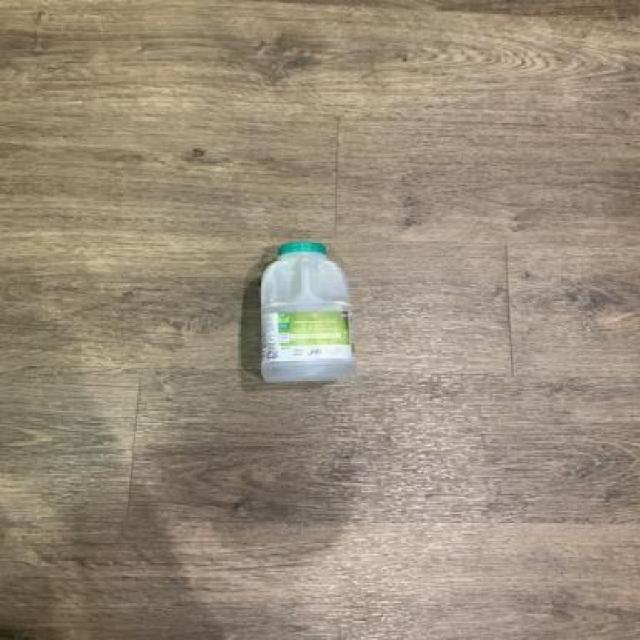trash: (251, 237, 363, 386)
